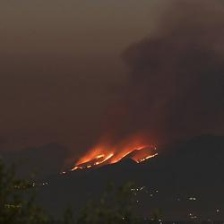fire: (72, 146, 161, 166)
smoke: (115, 18, 223, 114)
